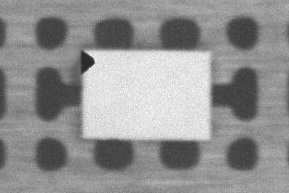DIE_BROKEN: (117, 32, 145, 49)
